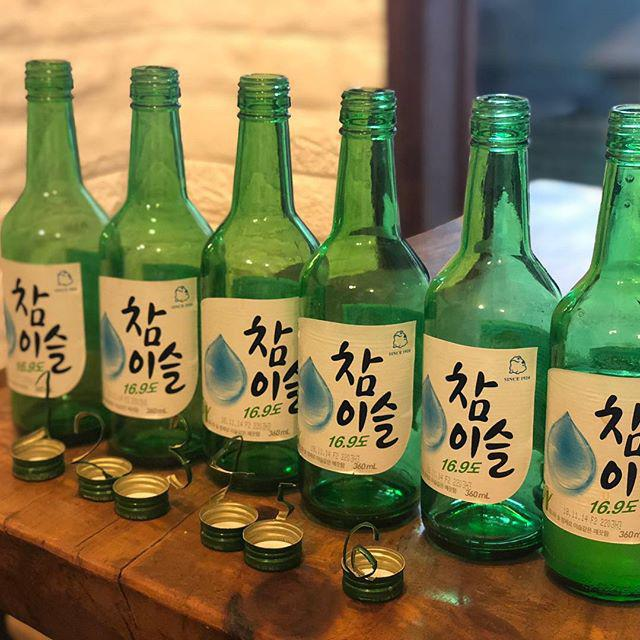soju: (3, 57, 640, 607)
